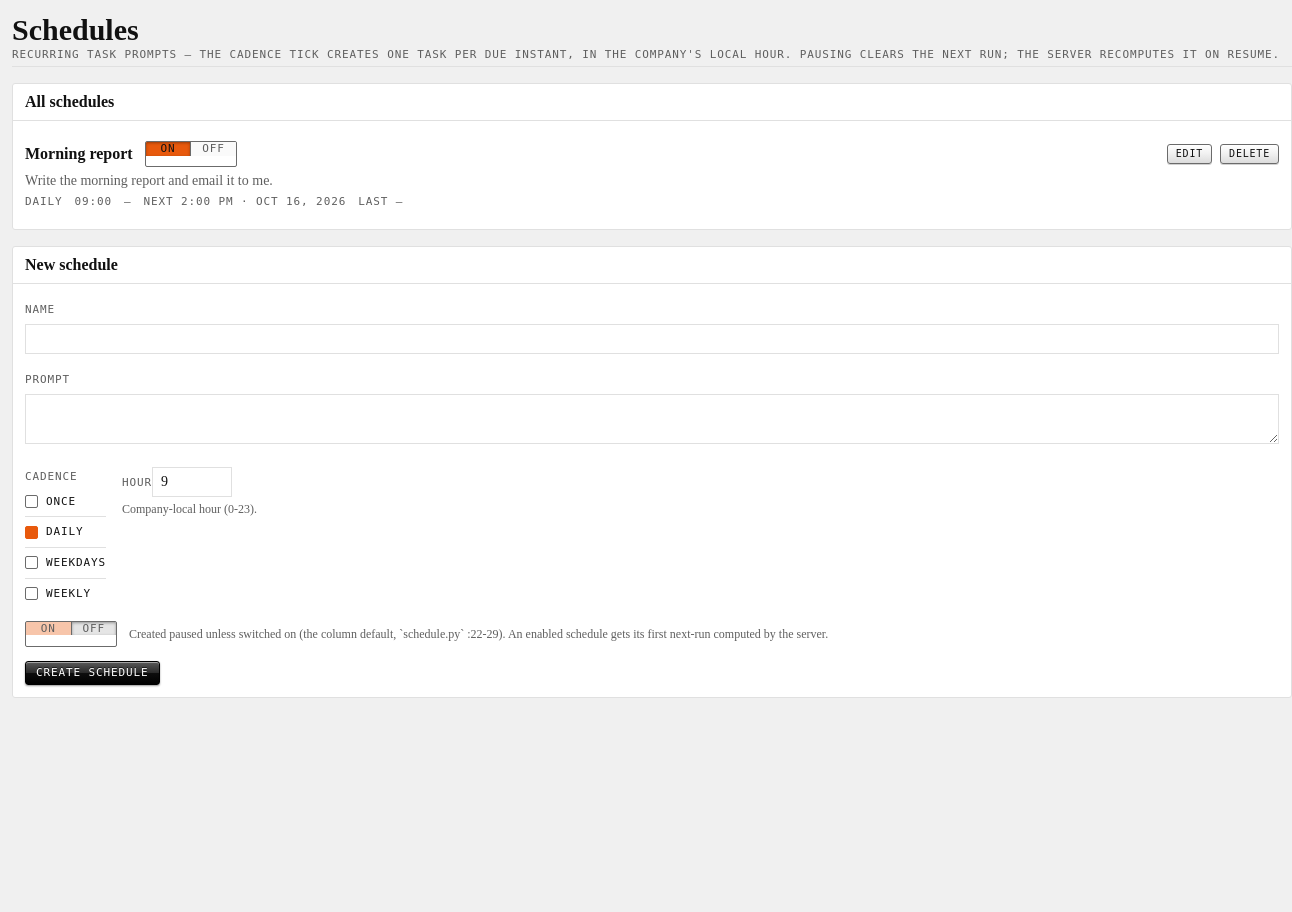
Test: SchedulesPage — pause/resume (PATCH /schedules/{id}) › pauses with the exact body {enabled:false} and takes the cleared next-run from the answer
The width and height of the screenshot is (1292, 912).
Click the switch labelled "ON OFF" below "All schedules" at (191, 154), box [145,141,237,167]
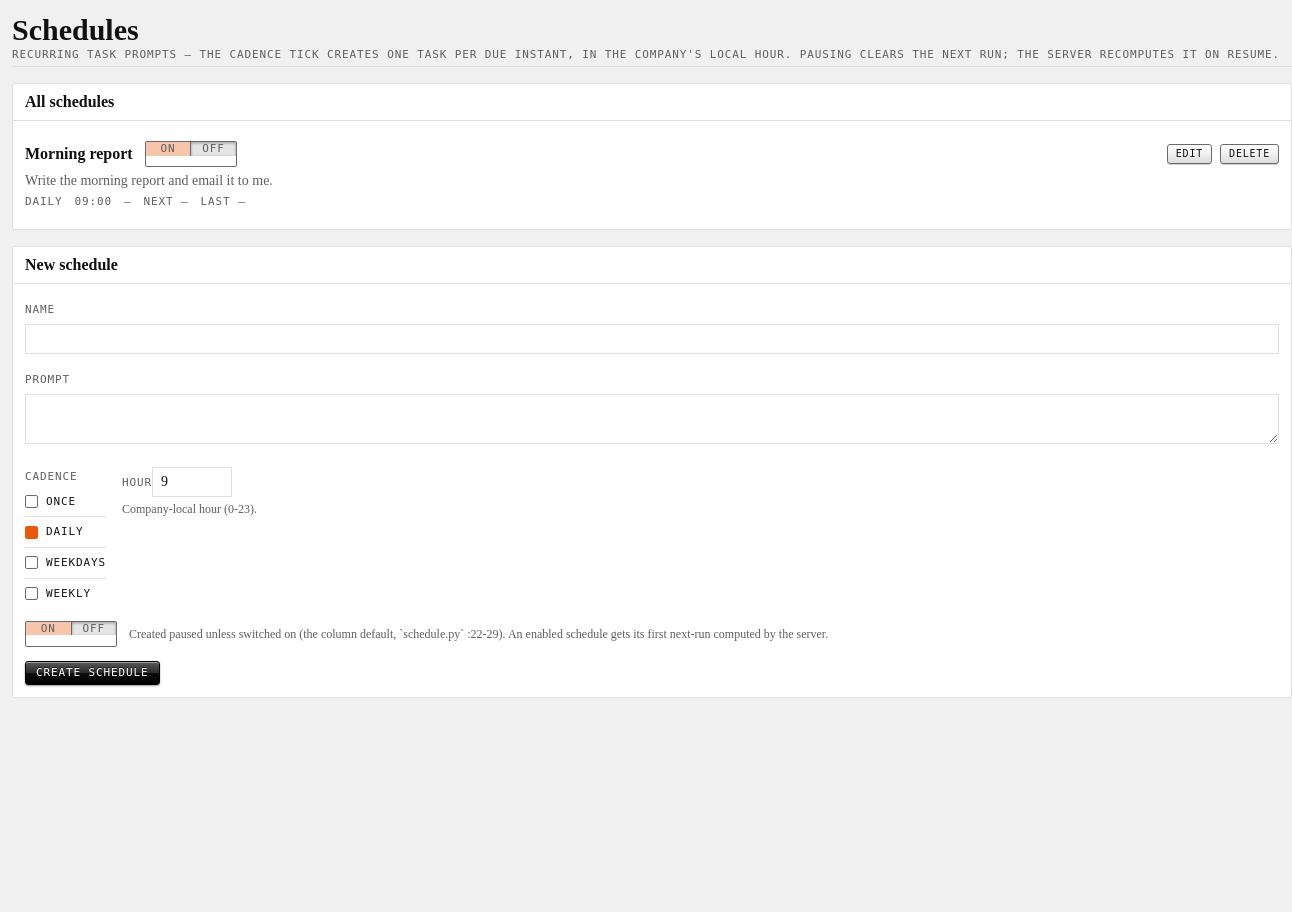
Check: the text with test id "schedule-next-run" reads "—", box [181,195,189,208]
